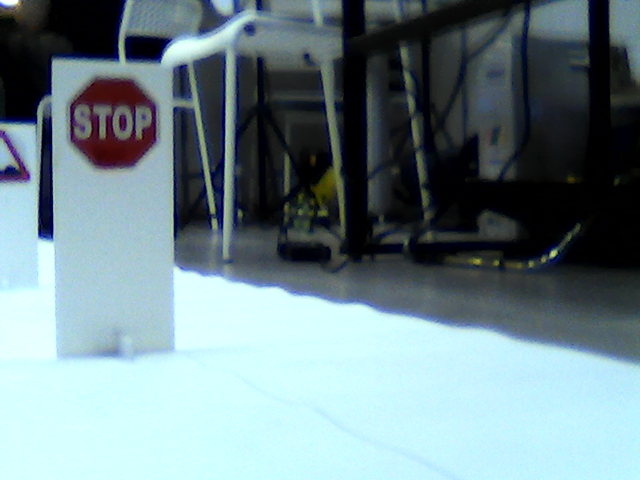Stop: (59, 75, 161, 171)
